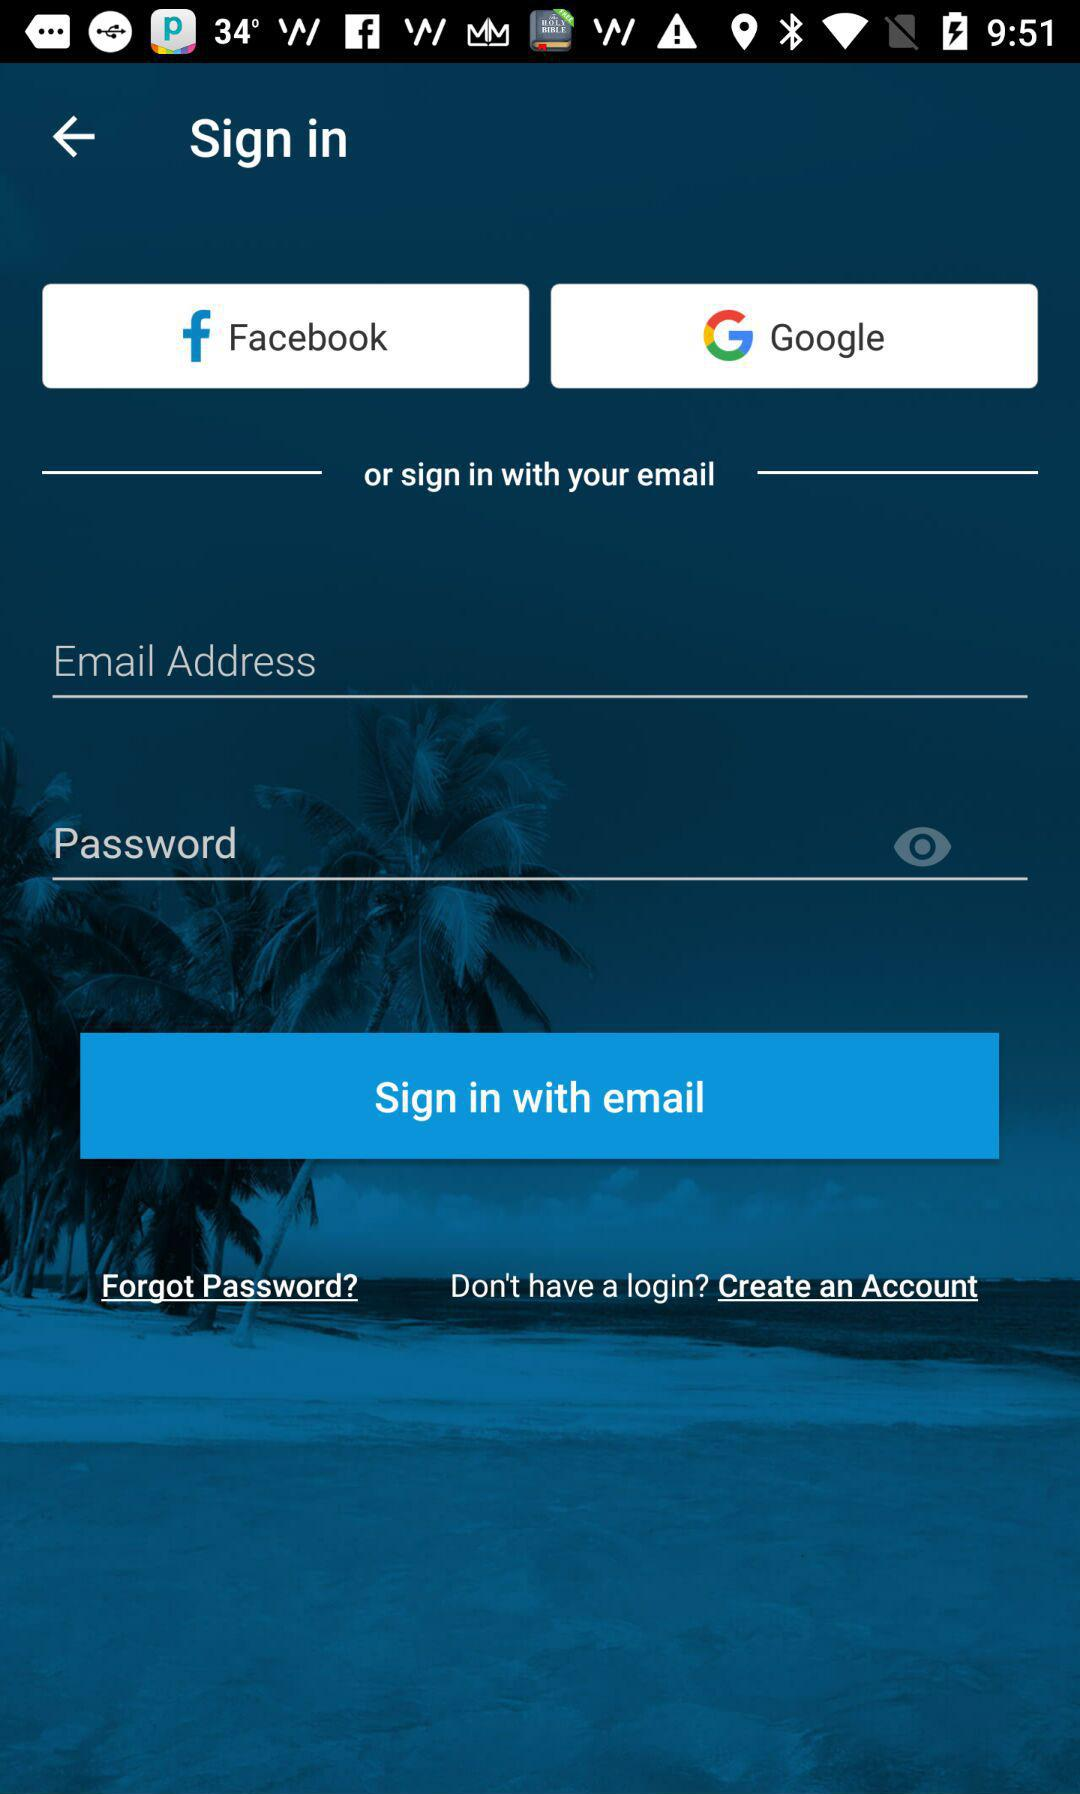BackgroundImage: (1, 64, 1080, 1794)
EditText: (53, 825, 1029, 882), (53, 645, 1029, 700)
Icon: (893, 827, 952, 868), (53, 115, 97, 159)
Text: (452, 1272, 979, 1304), (364, 461, 715, 495), (56, 645, 316, 679), (190, 118, 347, 170), (101, 1272, 359, 1304), (56, 825, 237, 861)
TextButton: (79, 1033, 999, 1160), (550, 284, 1038, 390), (42, 284, 530, 390)
UpperTaskBar: (1, 1, 1080, 64)
